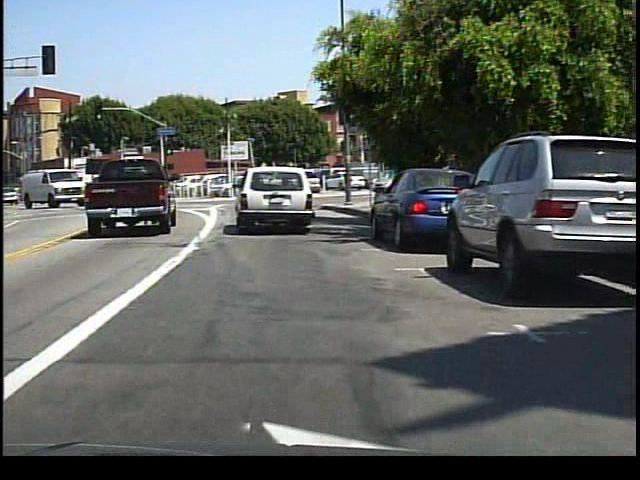person: (340, 168, 355, 199)
